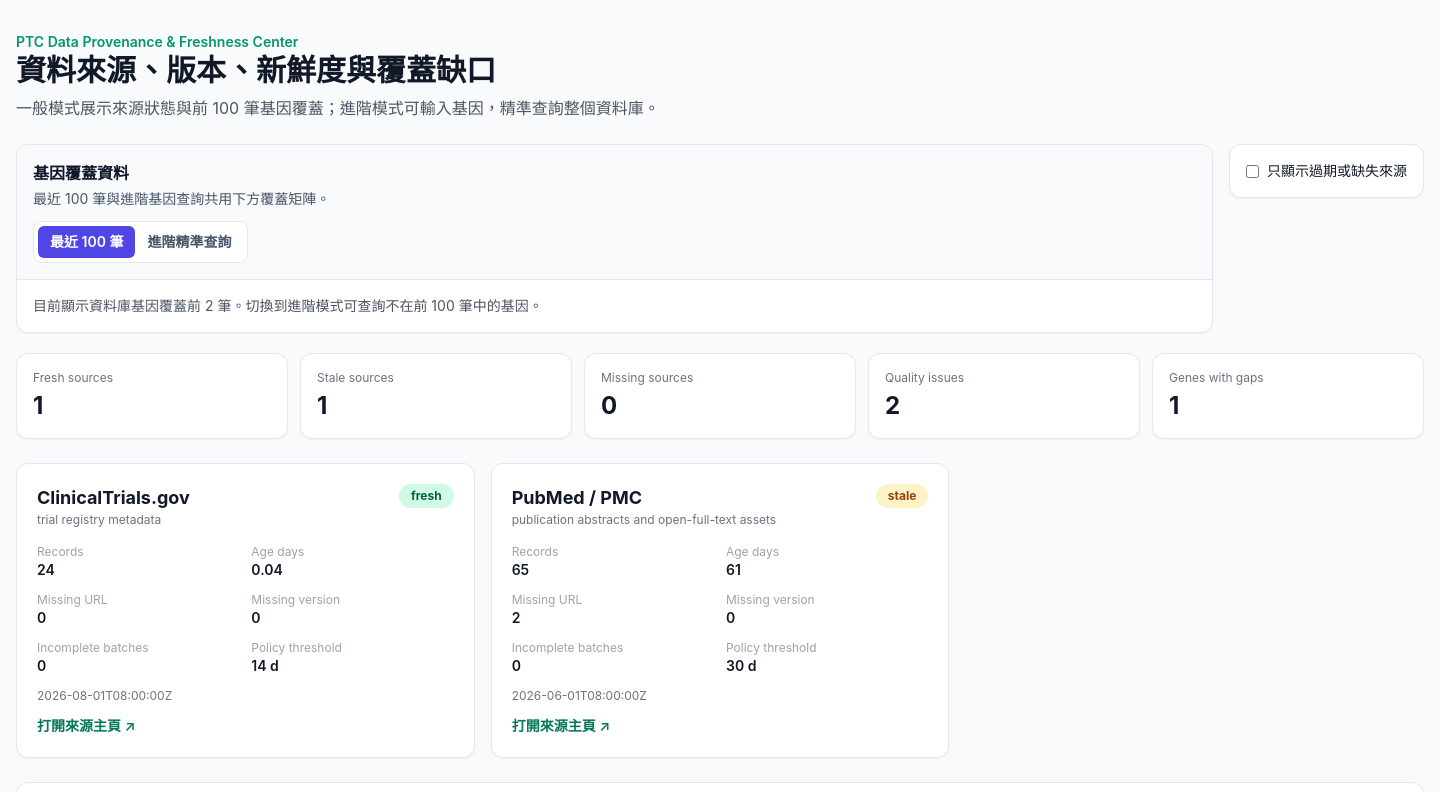
Test: PTCDataQualityPage › shows latest coverage and supports exact gene query
Check: the heading "ClinicalTrials.gov" is shown, box [37,484,190,512]
Click the button "進階精準查詢". click: [190, 242]
box: [136,226,244,258]
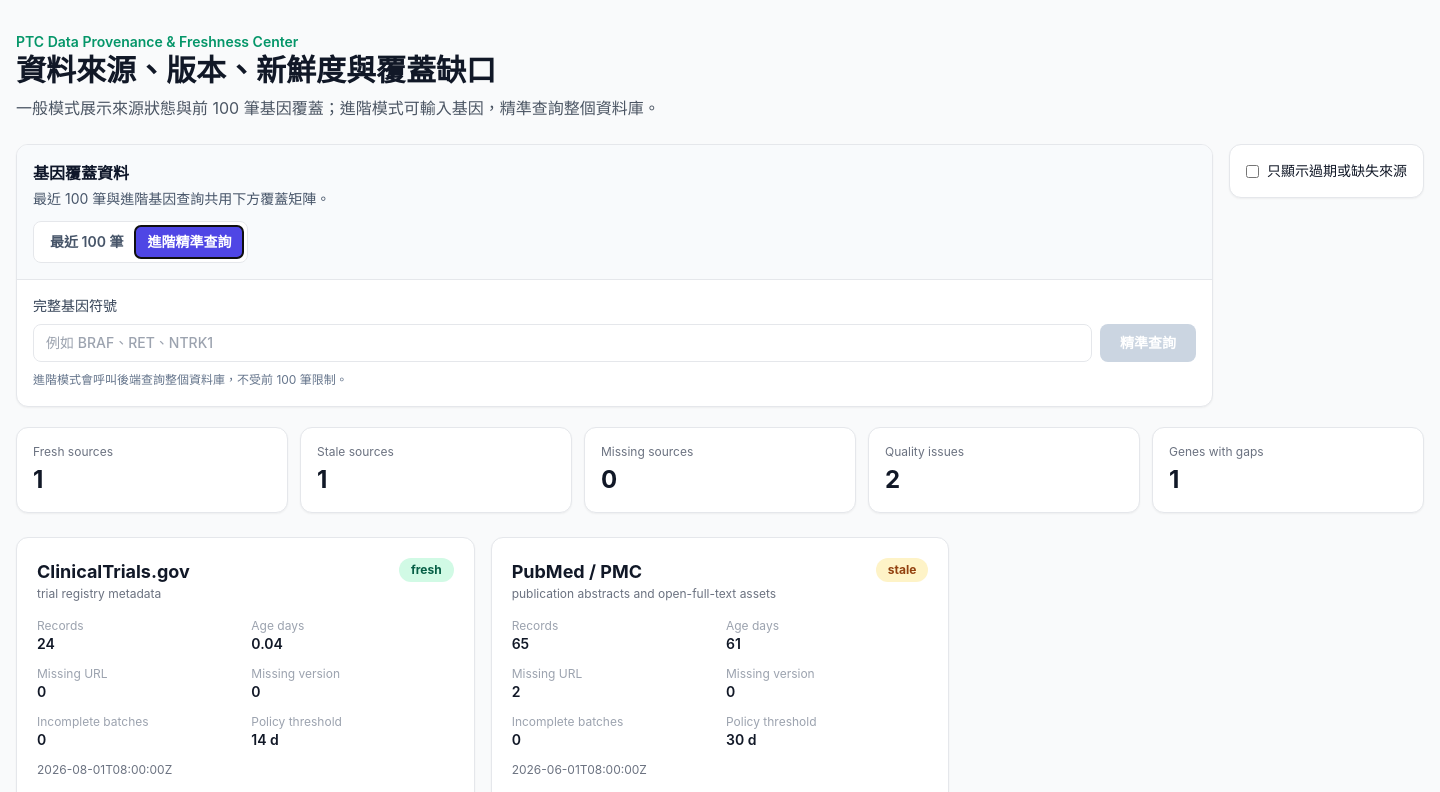
Type "NTRK1" into the field with placeholder "例如 BRAF、RET、NTRK1". click: [562, 343]
box: [33,324,1092,362]
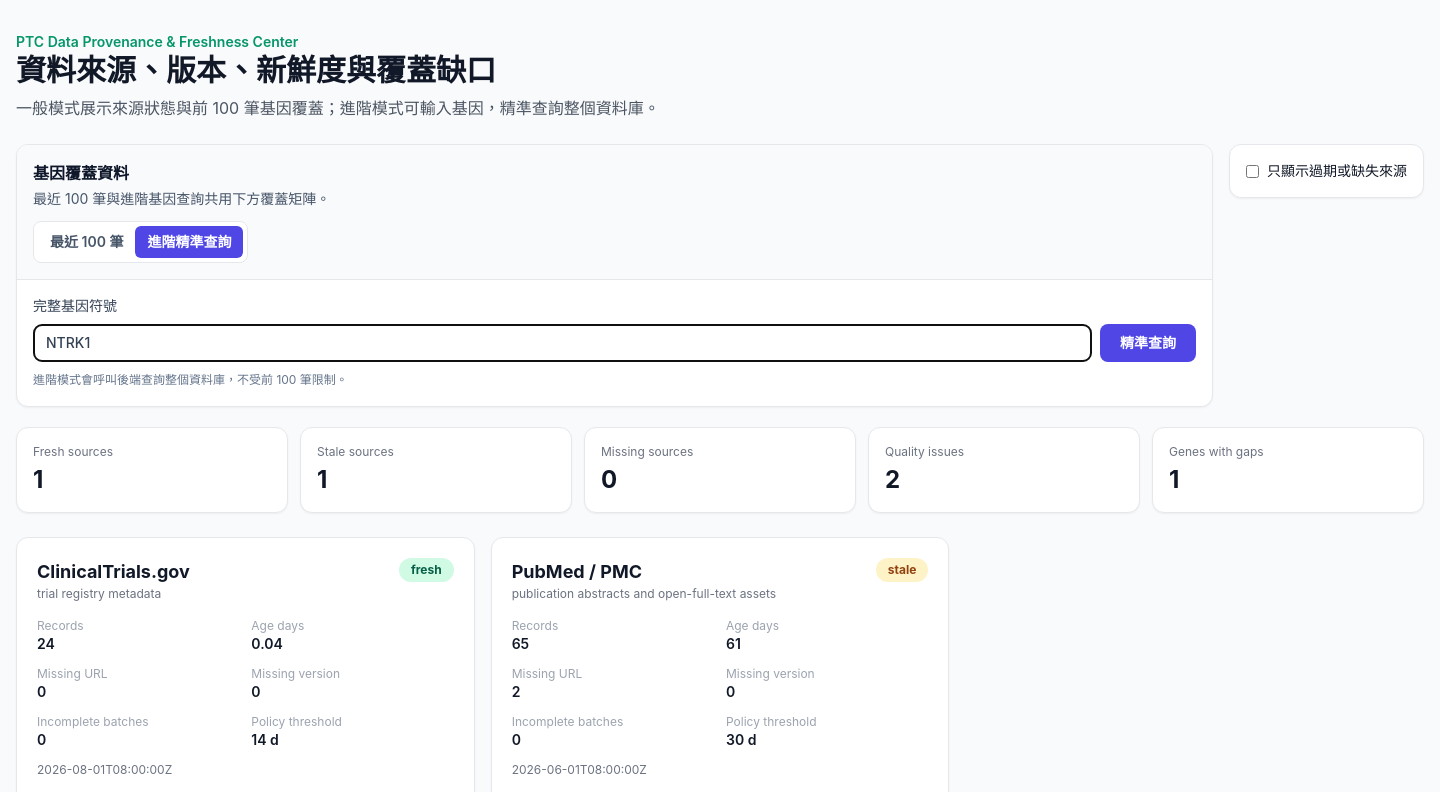
Click the button "精準查詢". click: [1148, 343]
box: [1100,324,1196,362]
(page scrolled)
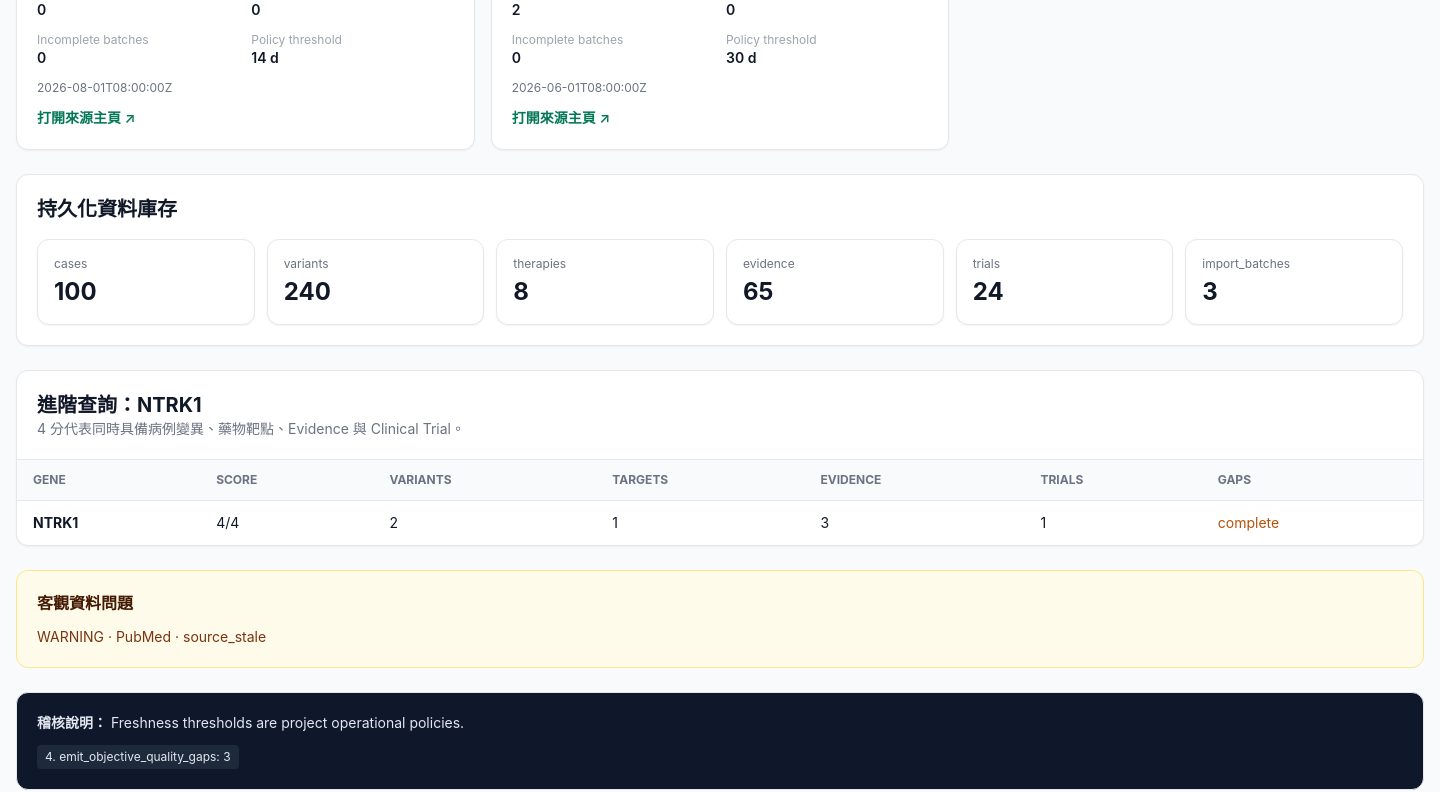
Check: the heading "進階查詢：NTRK1" is shown, box [37,393,202,417]
